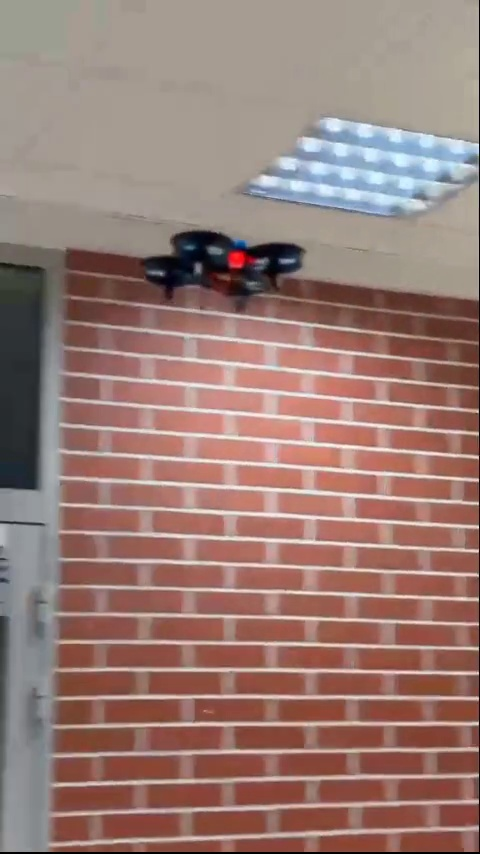drone: (145, 230, 303, 303)
